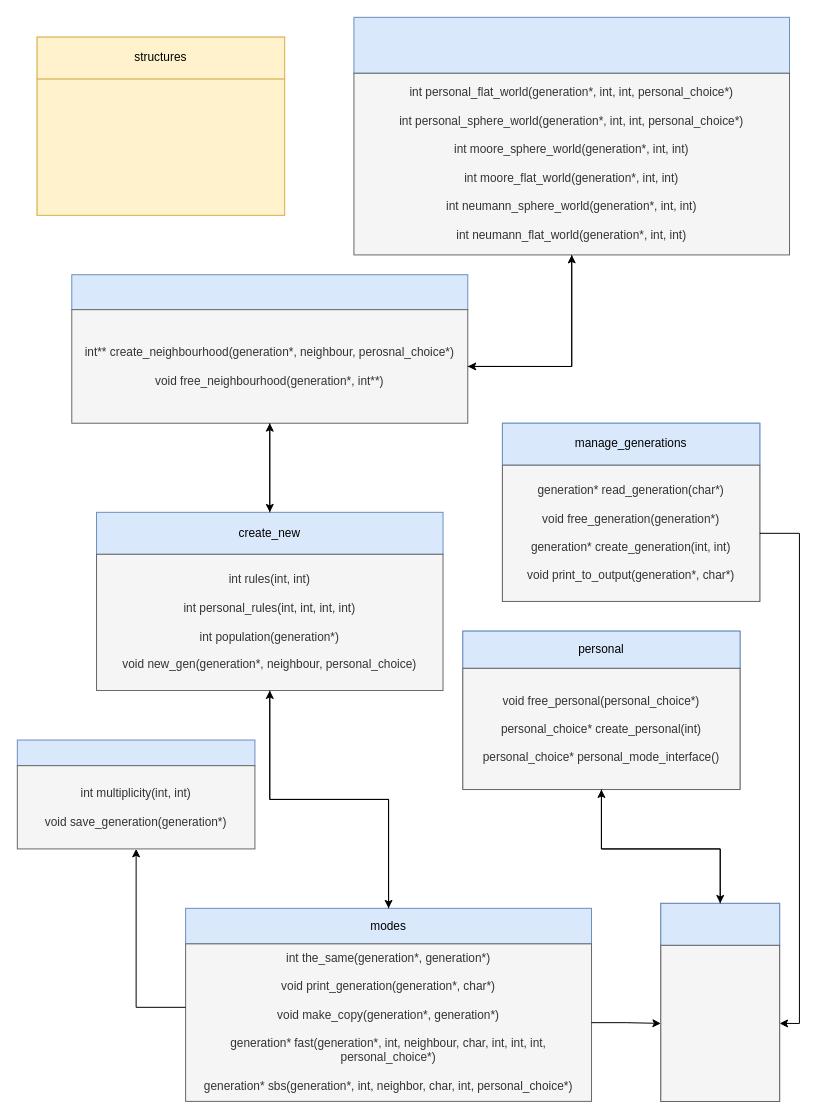
This 825x1120 diagram has some shape labels left out. Here are the shapes that lost their labels. From the top down, the box of each, then its label:
(353, 16, 790, 73): neighbor
(36, 78, 285, 215): structure of generation structure of personal_choice enum neighbour
(71, 274, 468, 310): help_create
(16, 739, 255, 766): save_image
(660, 902, 780, 945): main
(660, 944, 780, 1101): Obsługa parametrów Tworzenie generacji Uruchomienie innych funkcji
